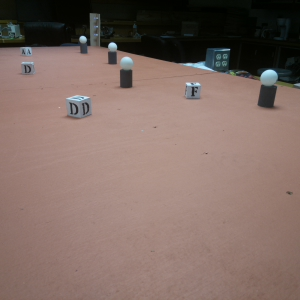blockA: (21, 45, 33, 57)
blockD: (66, 94, 90, 118), (20, 61, 35, 76)
blockF: (186, 79, 201, 100)
corner: (90, 14, 101, 45)
obstacle: (258, 66, 278, 108), (118, 55, 134, 90), (108, 41, 119, 65), (78, 35, 91, 54)
